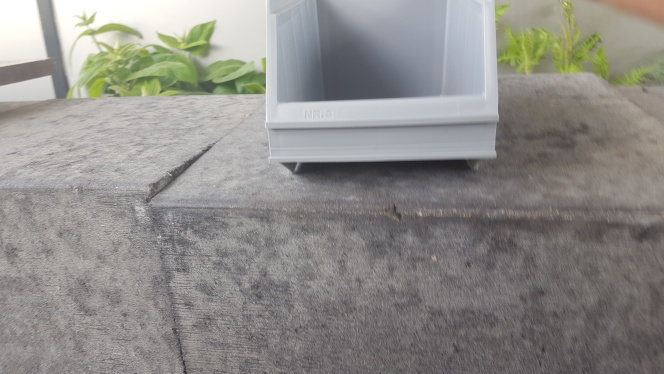tray_front: (263, 1, 498, 174)
